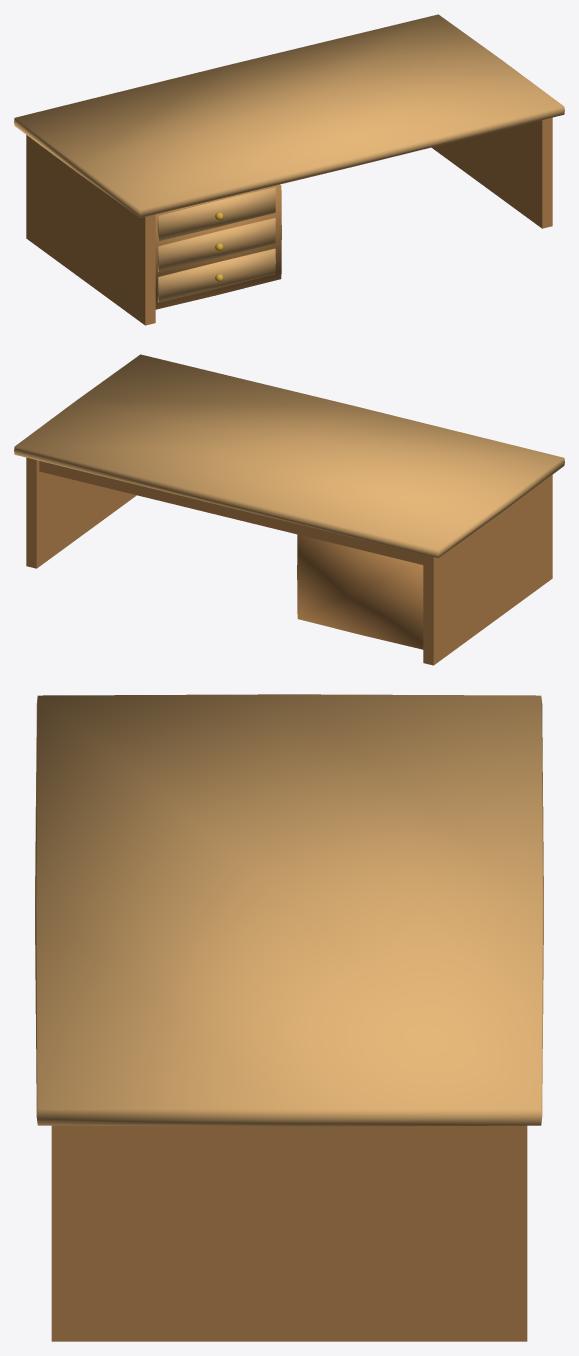
File: desk.glb
3 renders of one model, top to bottom at view 1: azimuth 30°, elevation 25°; view 2: azimuth 150°, elevation 25°; view 3: azimuth 270°, elevation 25°, orthographic. The views are drawn at different scales.
Parts seen in each view (by area): view 1: root; view 2: root; view 3: root.
Part boxes in pixels (x1,y1,x2,y2): root: [14, 14, 564, 325]; root: [14, 354, 564, 665]; root: [35, 694, 543, 1341].
Size of the model in its own units: 2.9 by 0.79 by 1.5.
